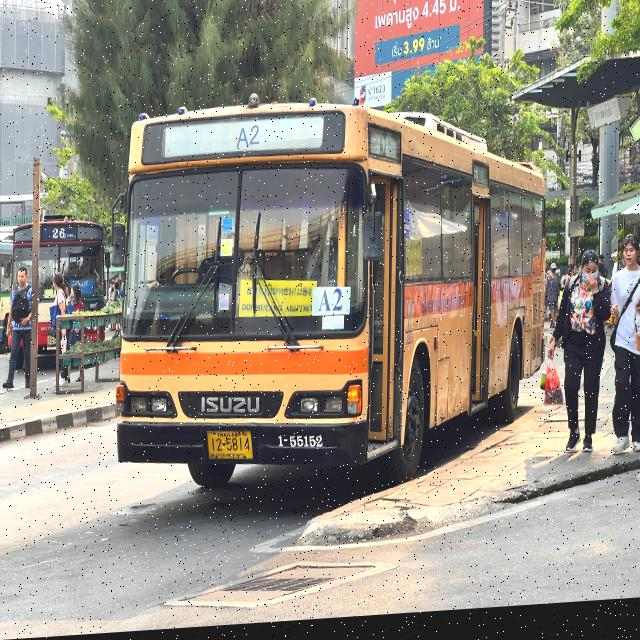BMTA-bus: (112, 77, 548, 505)
Bus Line Number: (229, 125, 266, 153)
Bus Side Number: (276, 433, 326, 457)
Destination Sign: (240, 279, 318, 321)
